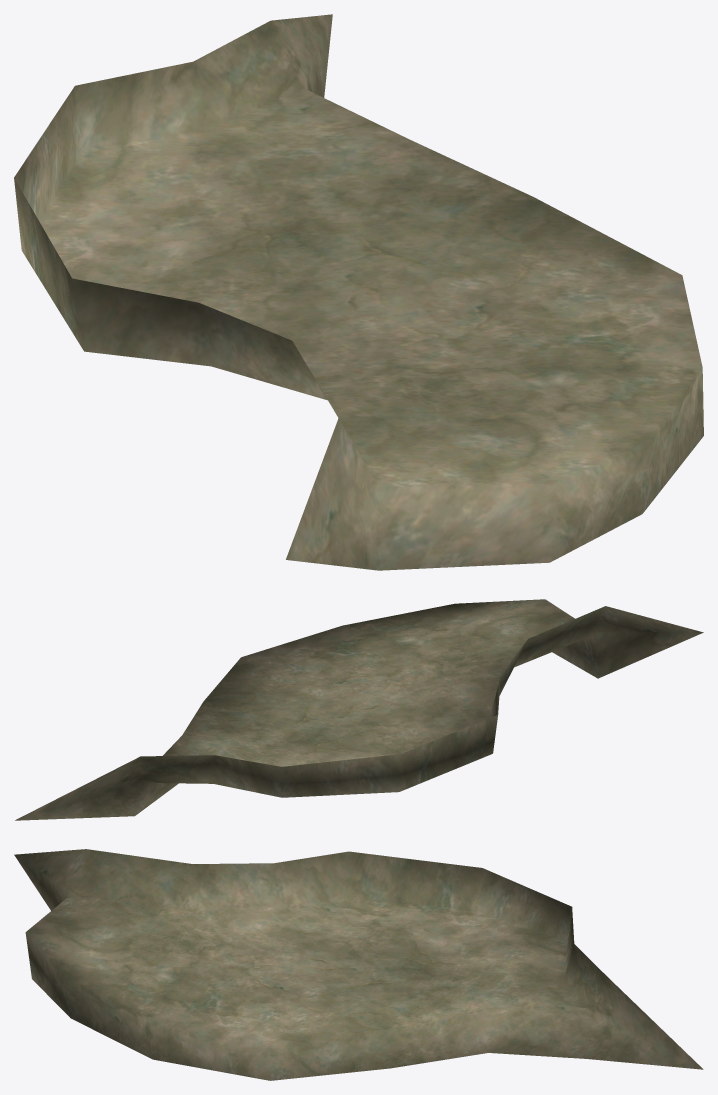
The model's file is EKH_CAVERNS_PS_CA_PLATFORM647484.fbx.
The picture shows the model from 3 angles, top to bottom: view 1: azimuth 30°, elevation 25°; view 2: azimuth 150°, elevation 25°; view 3: azimuth 270°, elevation 25°; orthographic projection. The views are drawn at different scales.
Parts seen in each view (by area): view 1: EKH_CAVERNS_PS_CA_PLATFORM647484; view 2: EKH_CAVERNS_PS_CA_PLATFORM647484; view 3: EKH_CAVERNS_PS_CA_PLATFORM647484.
Part boxes in pixels (box(x1,y1,x2,y2)): EKH_CAVERNS_PS_CA_PLATFORM647484: box(14, 14, 703, 570); EKH_CAVERNS_PS_CA_PLATFORM647484: box(15, 599, 703, 820); EKH_CAVERNS_PS_CA_PLATFORM647484: box(14, 849, 703, 1080).
Size of the model in its own units: 38821 by 9372 by 62403.
Materials: 1 (1 with a texture image).
